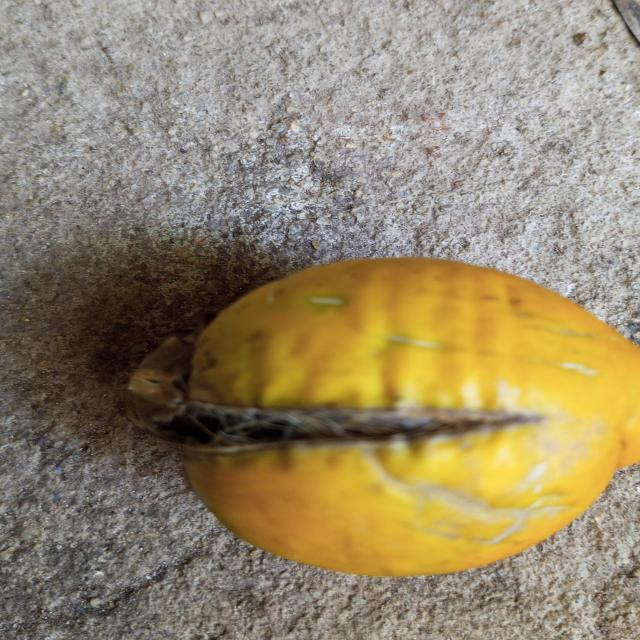damaged: (128, 258, 640, 576)
